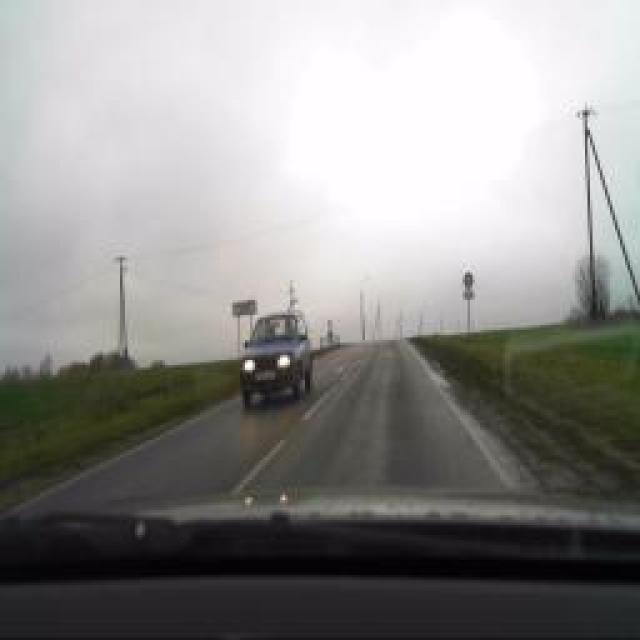sign: (464, 270, 474, 290)
